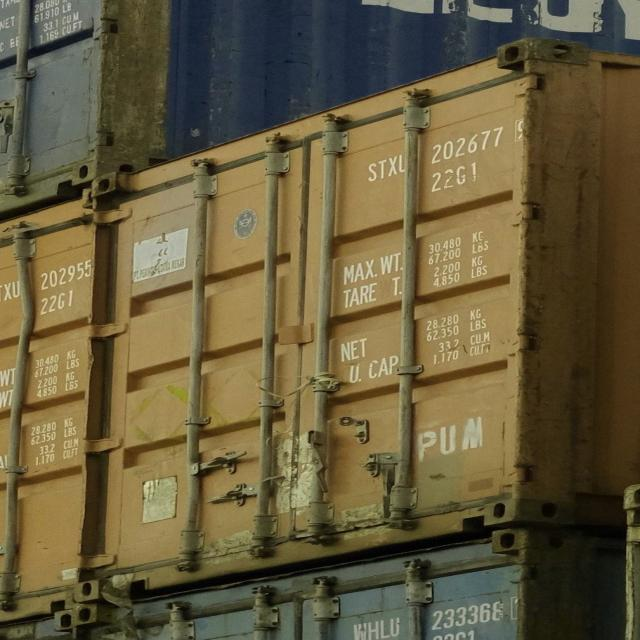ISO: (432, 166, 477, 192)
container_number: (368, 119, 538, 182), (336, 604, 507, 639)
